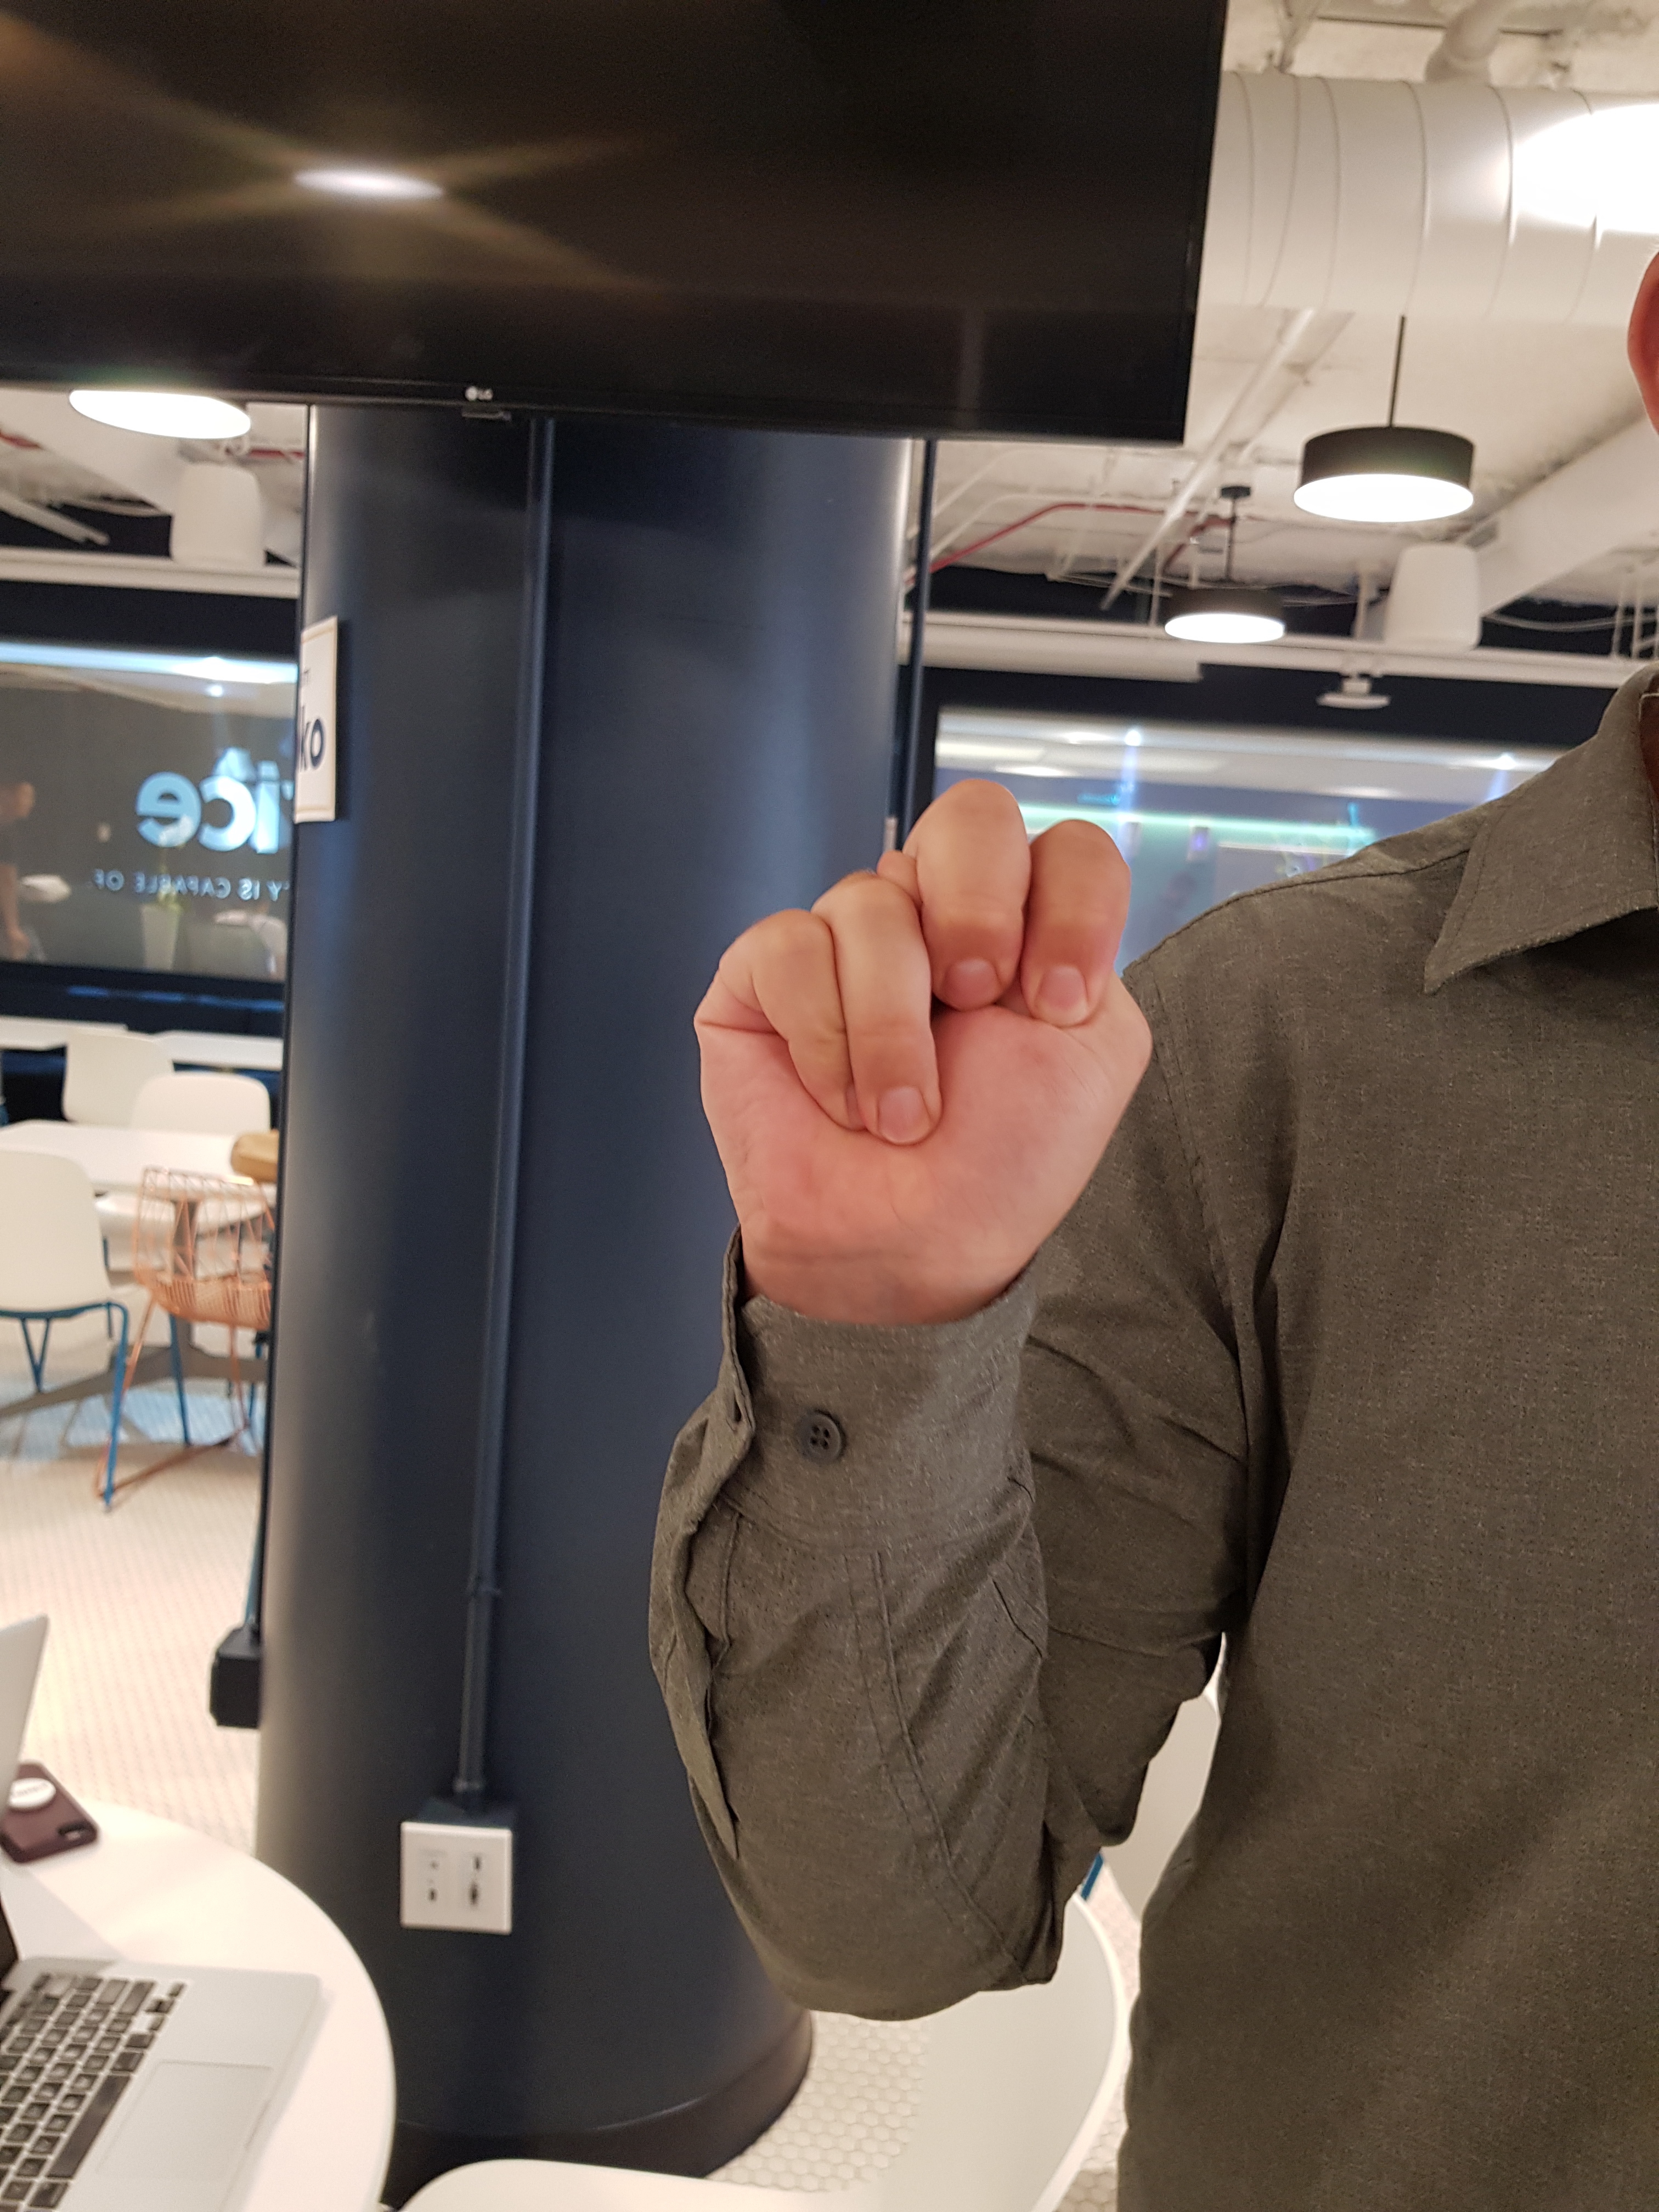n: (638, 735, 1183, 1353)
